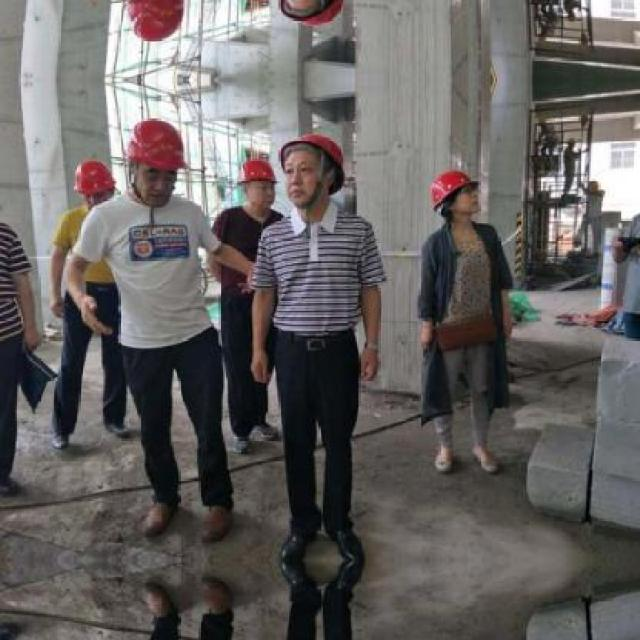helmet: (120, 114, 186, 206), (274, 127, 344, 211), (423, 166, 485, 226), (119, 0, 186, 46), (70, 154, 118, 212), (235, 153, 279, 213), (274, 0, 346, 34)
